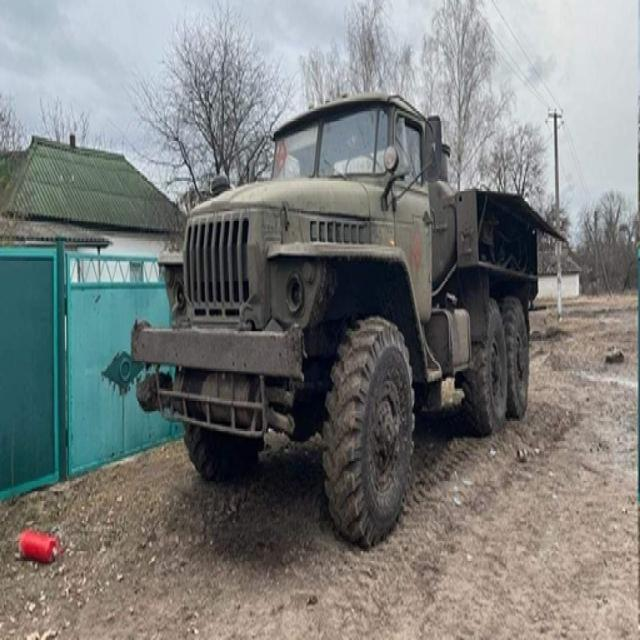TRUCK: (121, 74, 554, 534)
